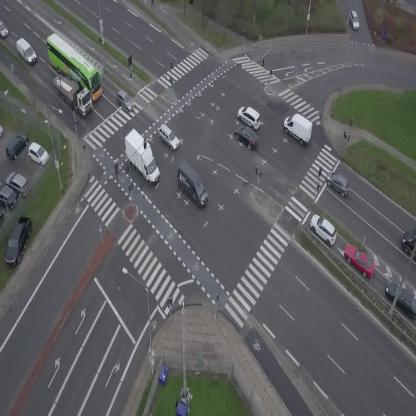bicycle: (112, 162, 122, 180), (149, 0, 156, 7)
bus: (36, 31, 112, 102)
car: (339, 239, 381, 282), (304, 210, 342, 248), (229, 120, 264, 153), (322, 167, 355, 199), (234, 102, 265, 132), (153, 123, 183, 152), (112, 88, 138, 114), (348, 10, 361, 30), (0, 20, 8, 37)
lorry: (114, 127, 172, 186), (44, 64, 100, 119), (168, 161, 216, 209), (278, 108, 319, 147), (11, 36, 41, 66), (402, 232, 416, 258)
